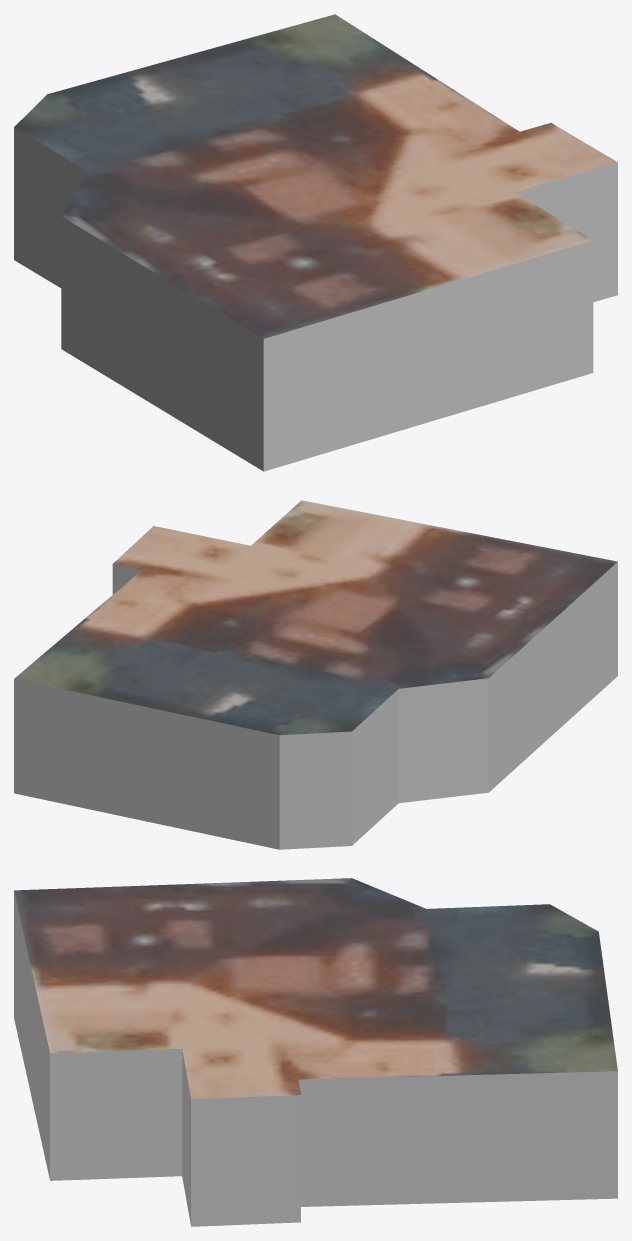
The model's file is DEBW_0010007Tx96.gltf.
3 views of the same model, one above another, from view 1: azimuth 30°, elevation 25°; view 2: azimuth 150°, elevation 25°; view 3: azimuth 270°, elevation 25° (orthographic). The views are drawn at different scales.
Parts seen in each view (by area): view 1: Z_UP; view 2: Z_UP; view 3: Z_UP.
Boxes of the visible parts, left/top/right/bottom form: Z_UP: left=14, top=14, right=617, bottom=471; Z_UP: left=14, top=500, right=617, bottom=849; Z_UP: left=14, top=878, right=617, bottom=1226.
Bounding box in the file's own units: 16.38 × 4.4 × 18.89.
Materials: 2 (1 with a texture image).
